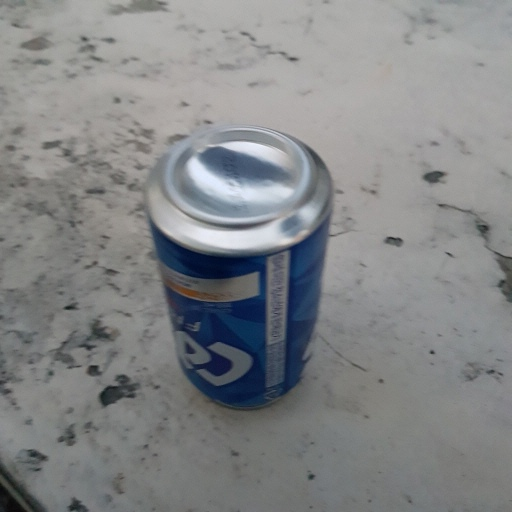Metal_0: (135, 121, 344, 412)
